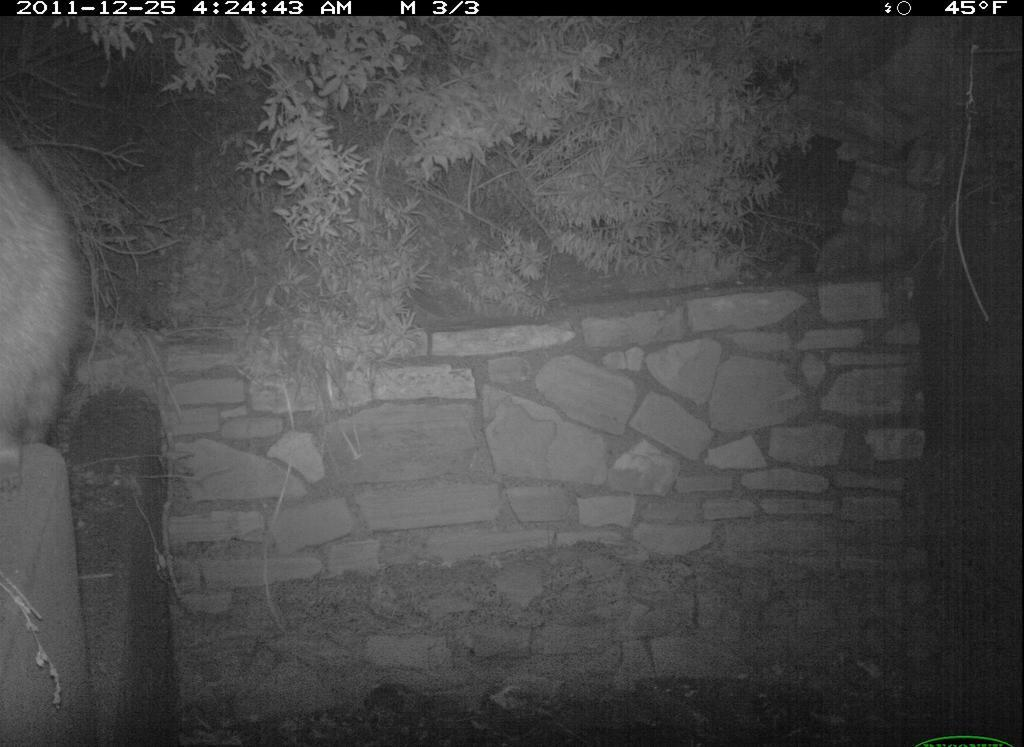raccoon: (5, 126, 116, 473)
